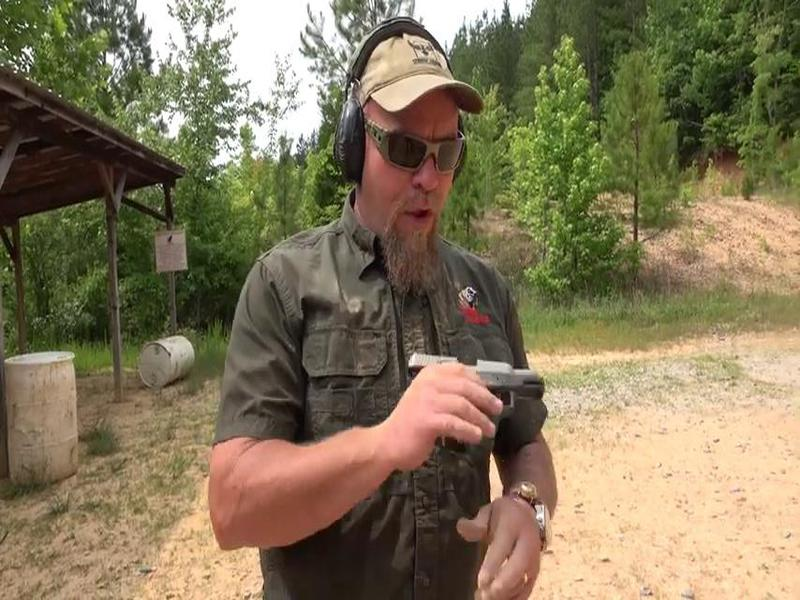Pistola: (354, 312, 573, 481)
